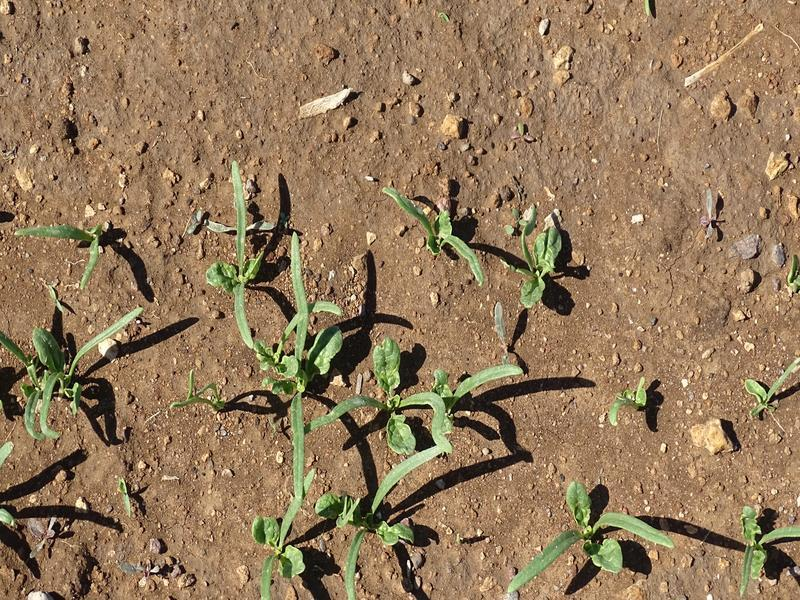Espinaca: (208, 173, 326, 592), (333, 340, 506, 596), (382, 186, 590, 301), (2, 301, 149, 440), (508, 479, 665, 595), (738, 501, 797, 591), (738, 352, 795, 432), (606, 370, 658, 427)
